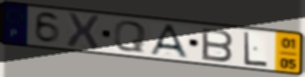6: (33, 11, 62, 45)
A: (148, 23, 191, 60)
B: (199, 27, 235, 64)
L: (242, 30, 269, 68)
Q: (112, 20, 148, 54)
X: (65, 11, 101, 51)
